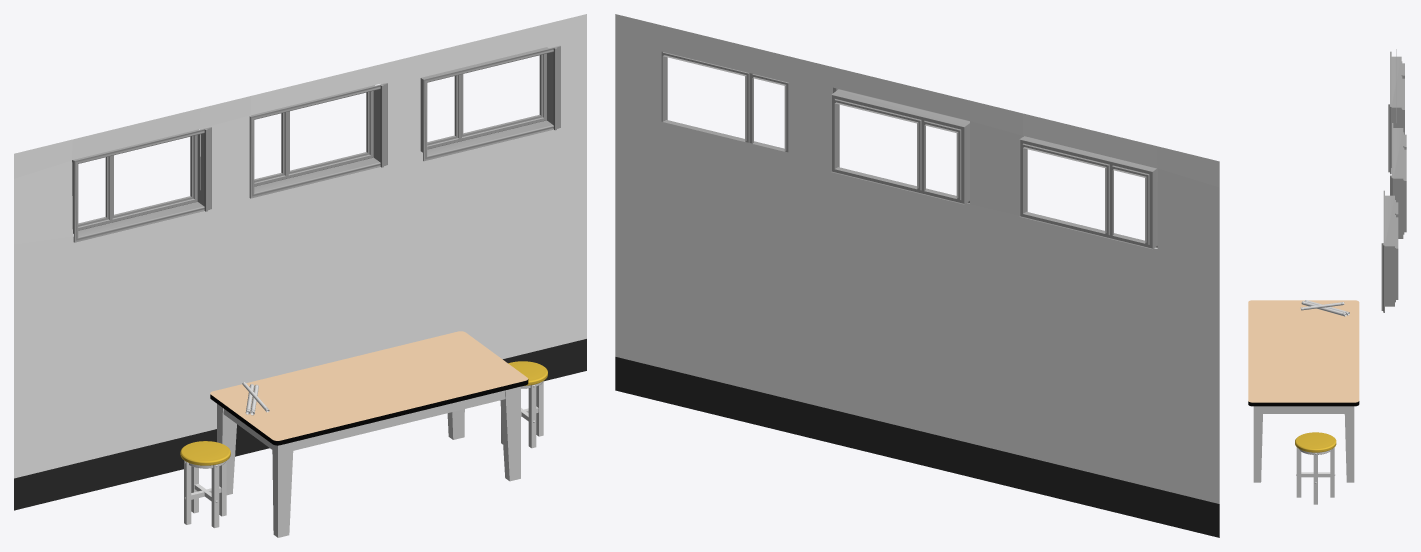
Rendered from AmbienteLab.fbx.
3 renders of one model, left to right at view 1: azimuth 30°, elevation 25°; view 2: azimuth 150°, elevation 25°; view 3: azimuth 270°, elevation 25°, orthographic. The views are drawn at different scales.
Parts seen in each view (by area): view 1: Plano.003, Mesa.001, Ventana.004, Ventana.005, Ventana.006, Patas.017, Patas.015; view 2: Plano.003, Ventana.006, Ventana.005, Ventana.004; view 3: Mesa.001, Ventana.004, Patas.015, Ventana.006, Ventana.005.
Part boxes in pixels (x1=…): Plano.003: x1=14, y1=14, x2=586, y2=510; Mesa.001: x1=210, y1=331, x2=528, y2=537; Ventana.004: x1=420, y1=45, x2=560, y2=161; Ventana.005: x1=72, y1=127, x2=211, y2=242; Ventana.006: x1=249, y1=83, x2=387, y2=198; Patas.017: x1=180, y1=441, x2=230, y2=528; Patas.015: x1=501, y1=361, x2=547, y2=448; Plano.003: x1=615, y1=14, x2=1219, y2=537; Ventana.006: x1=831, y1=87, x2=969, y2=204; Ventana.005: x1=1019, y1=136, x2=1157, y2=249; Ventana.004: x1=661, y1=51, x2=788, y2=152; Mesa.001: x1=1248, y1=300, x2=1359, y2=482; Ventana.004: x1=1381, y1=190, x2=1398, y2=312; Patas.015: x1=1295, y1=432, x2=1336, y2=504; Ventana.006: x1=1390, y1=123, x2=1406, y2=238; Ventana.005: x1=1388, y1=51, x2=1404, y2=174.
Size of the model in its own units: 1310 by 796 by 382.
